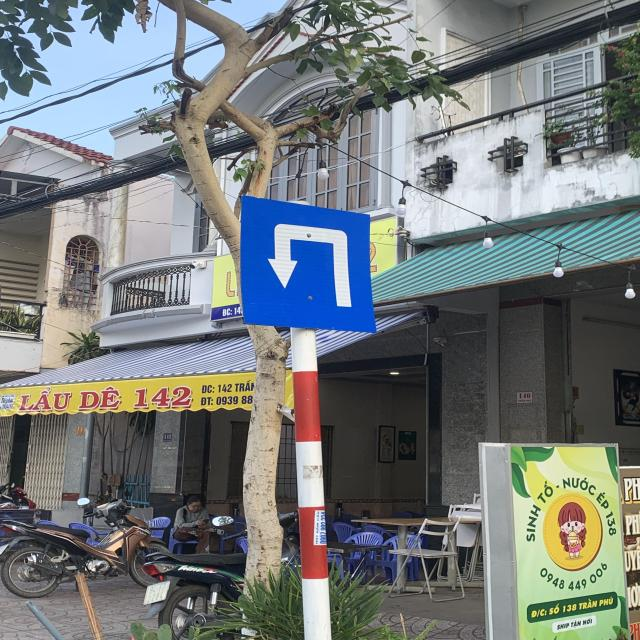Den_Giao_Thong: (240, 197, 372, 332)
